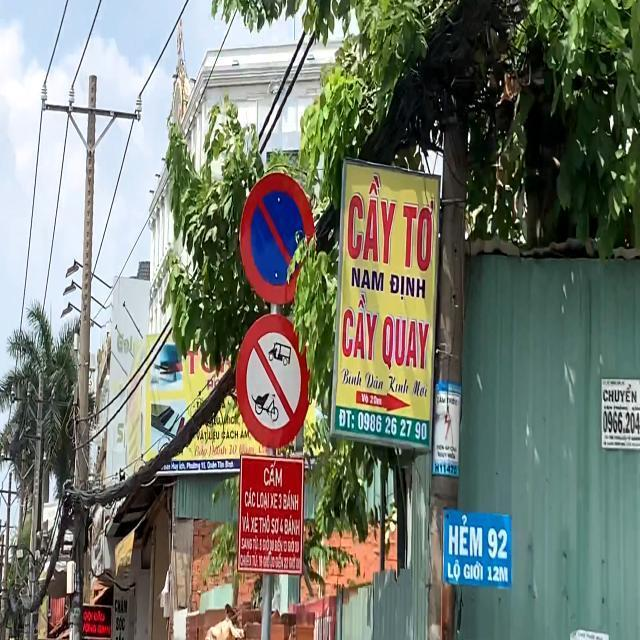131a-cam-do-xe: (239, 172, 317, 302)
